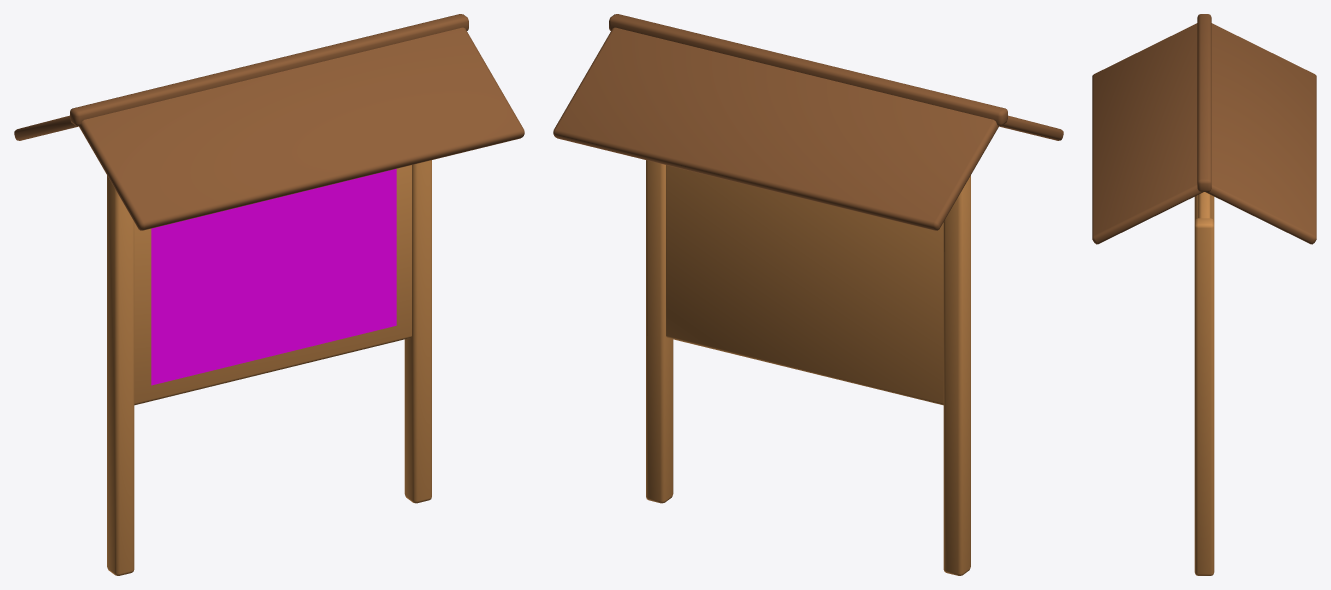
File: notice_board.glb
3 renders of one model, left to right at view 1: azimuth 30°, elevation 25°; view 2: azimuth 150°, elevation 25°; view 3: azimuth 270°, elevation 25°, orthographic. The views are drawn at different scales.
Parts seen in each view (by area): view 1: notice_board; view 2: notice_board; view 3: notice_board.
Boxes of the visible parts, x1,y1,x2,y2 form: notice_board: (14, 14, 524, 575); notice_board: (553, 14, 1063, 575); notice_board: (1092, 14, 1316, 575).
Bounding box in the file's own units: 2.25 × 2.58 × 1.27.
